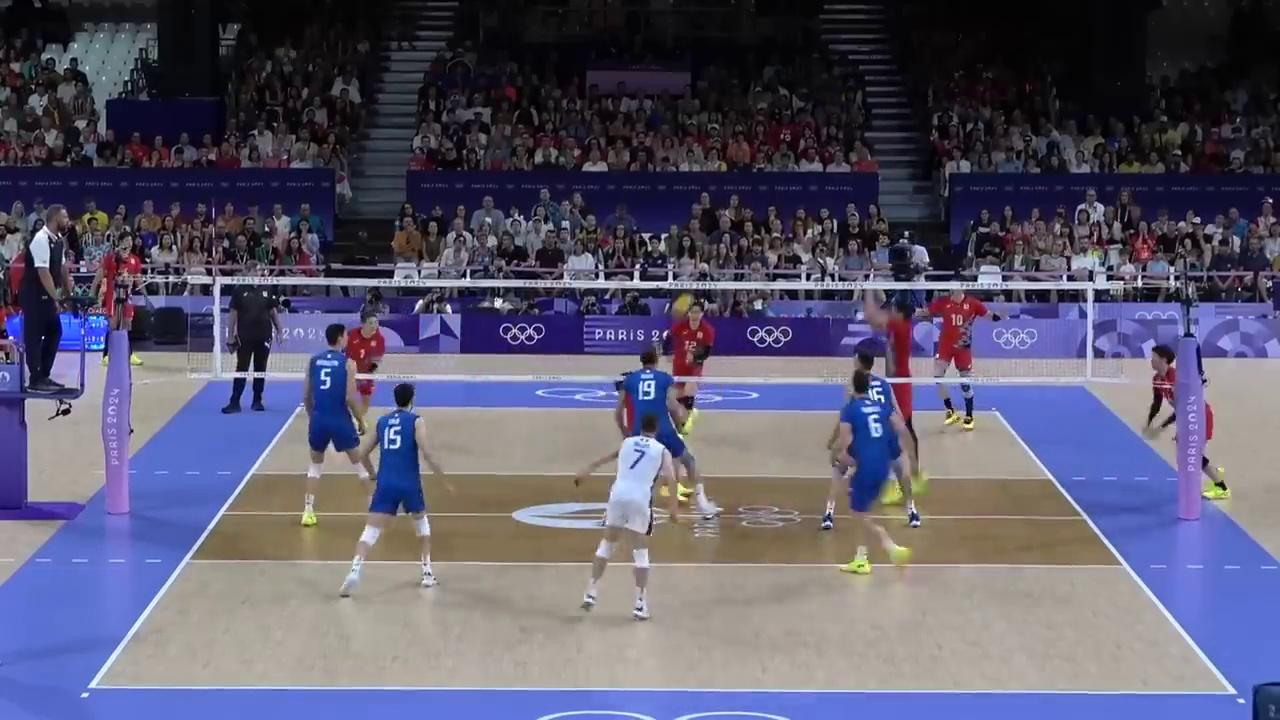ball: (671, 291, 694, 320)
